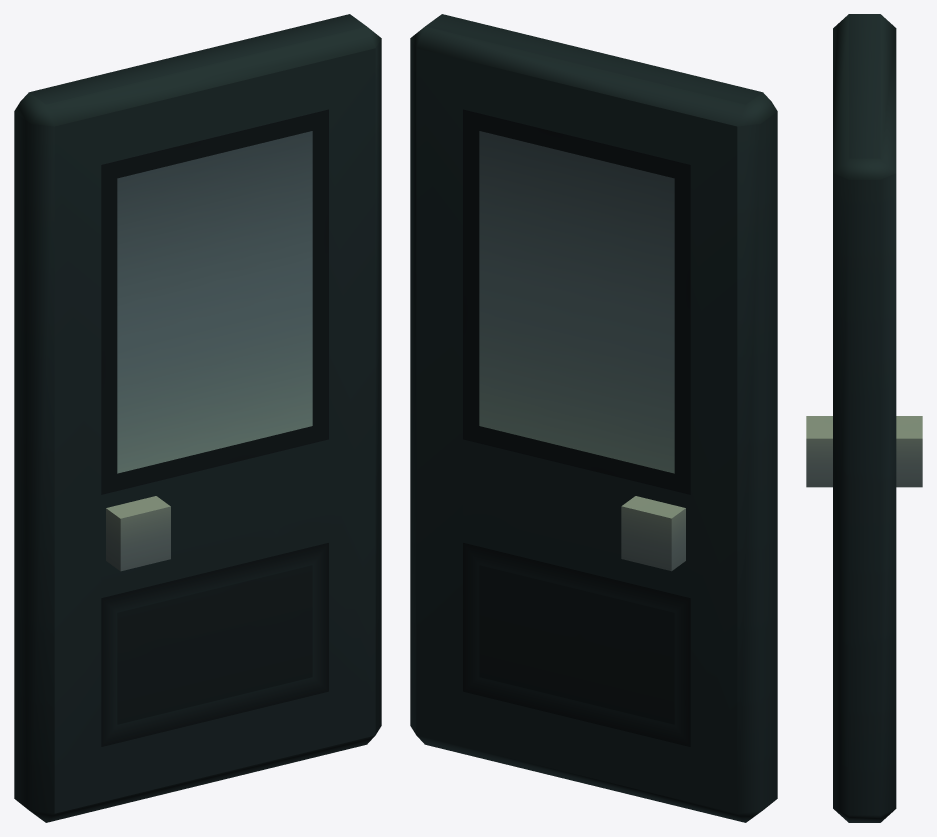
Rendered from door_black_police_station.fbx.
3 views of the same model, side by side, from view 1: azimuth 30°, elevation 25°; view 2: azimuth 150°, elevation 25°; view 3: azimuth 270°, elevation 25° (orthographic). The views are drawn at different scales.
Parts seen in each view (by area): view 1: door_black_police_station; view 2: door_black_police_station; view 3: door_black_police_station.
Boxes of the visible parts, left/top/right/bottom form: door_black_police_station: left=14, top=14, right=381, bottom=822; door_black_police_station: left=410, top=14, right=777, bottom=822; door_black_police_station: left=806, top=14, right=922, bottom=822.
Size of the model in its own units: 104 by 204 by 32.5.
